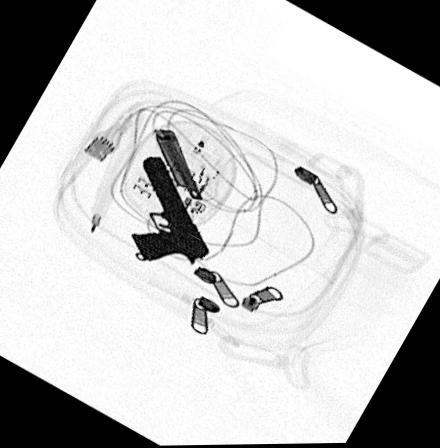Gun: (131, 155, 211, 264)
